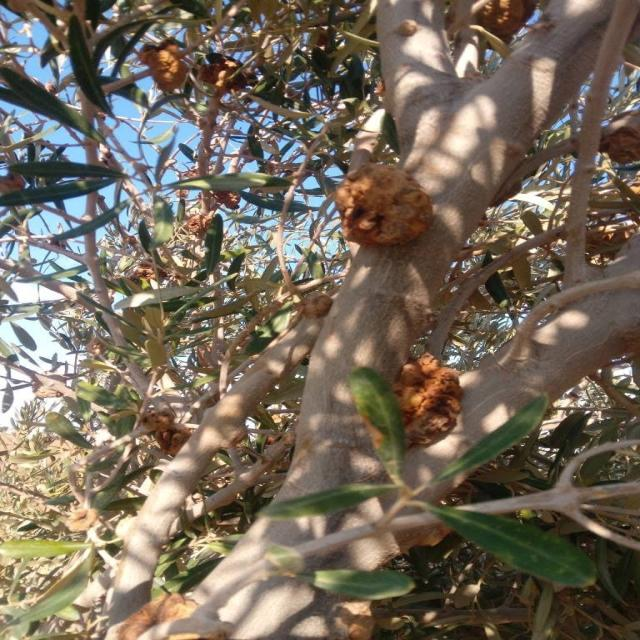Tuberculosis: (335, 161, 433, 248), (393, 353, 462, 449), (470, 0, 536, 43), (139, 39, 188, 93), (196, 53, 258, 95), (141, 408, 192, 457), (600, 123, 639, 169), (296, 292, 332, 319)
